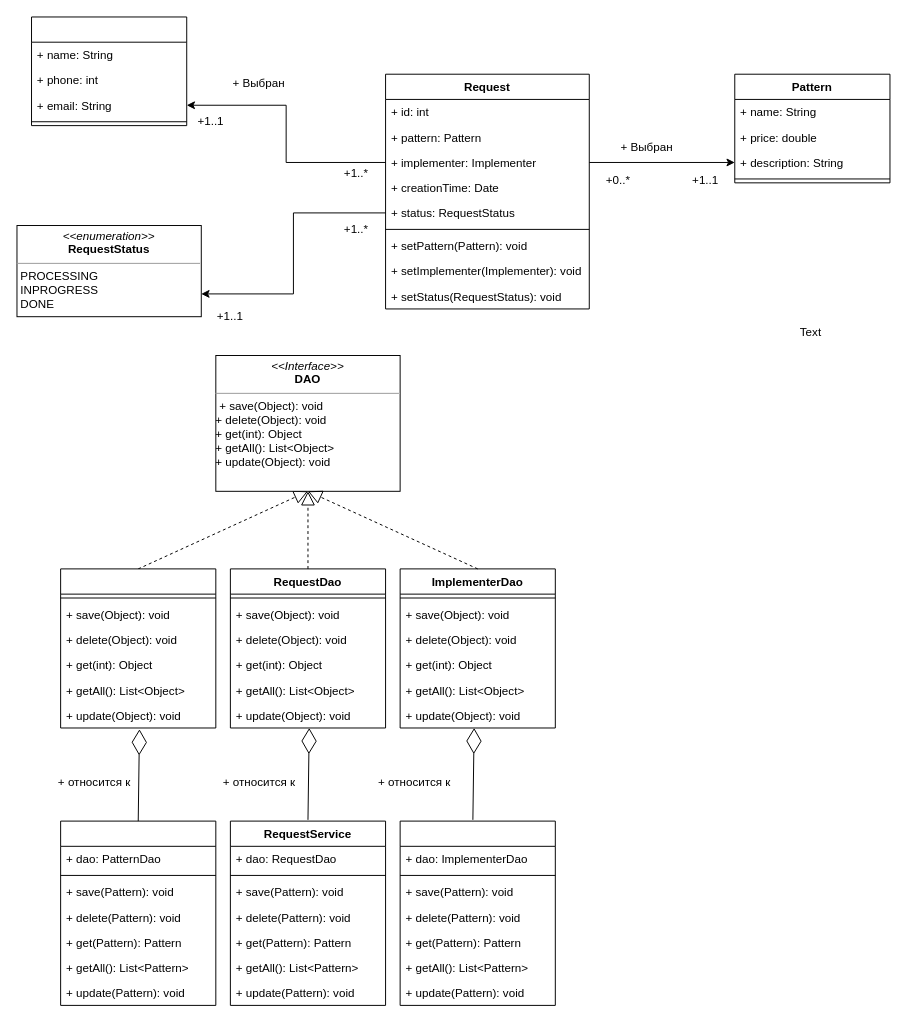
Some shapes in this 907 by 1025 pixel diagram are drawn without their labels. Each missing label, with the box of its shape:
Implementer: (31, 16, 187, 126)
ImplementerService: (399, 820, 555, 1005)
PatternDAO: (60, 568, 216, 728)
PatternService: (60, 820, 216, 1005)
